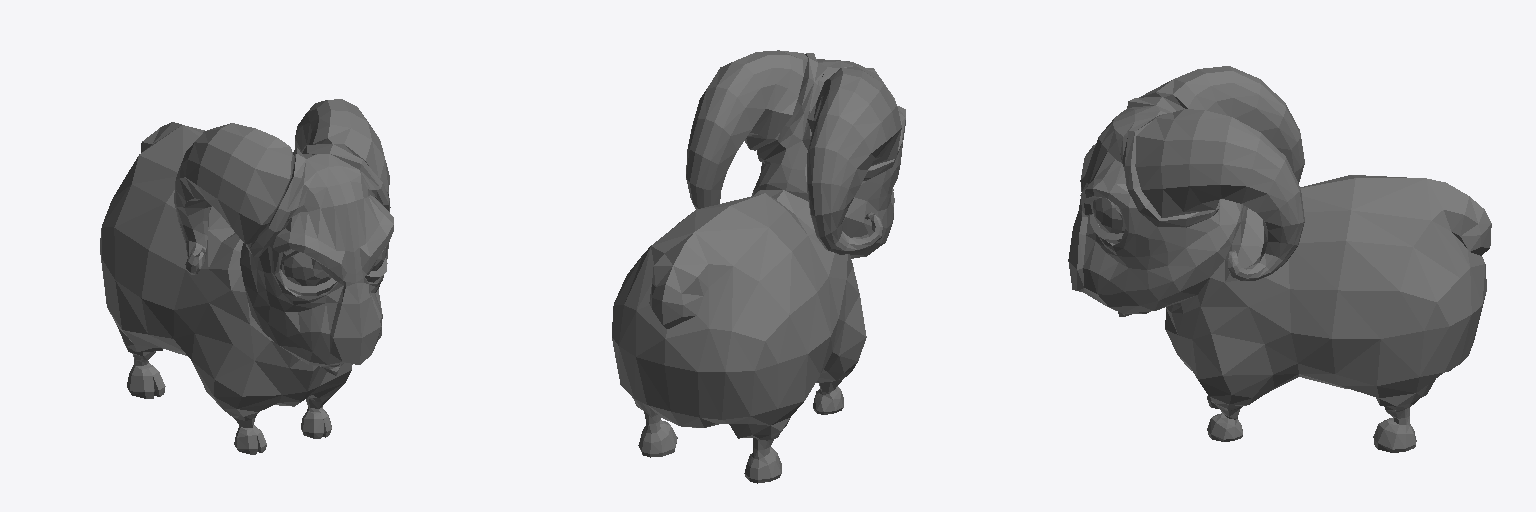
File: ram_blinn.obj
The picture shows the model from 3 angles: view 1: azimuth 30°, elevation 25°; view 2: azimuth 150°, elevation 25°; view 3: azimuth 270°, elevation 25°; orthographic projection.
Visible parts, largest first — view 1: ram:Mesh group; view 2: ram:Mesh group; view 3: ram:Mesh group.
Boxes of the visible parts, box(x1,y1,x2,y2) form: ram:Mesh group: box(100, 99, 393, 454); ram:Mesh group: box(612, 50, 905, 483); ram:Mesh group: box(1068, 66, 1491, 452).
Size of the model in its own units: 5.69 by 9.73 by 11.37.